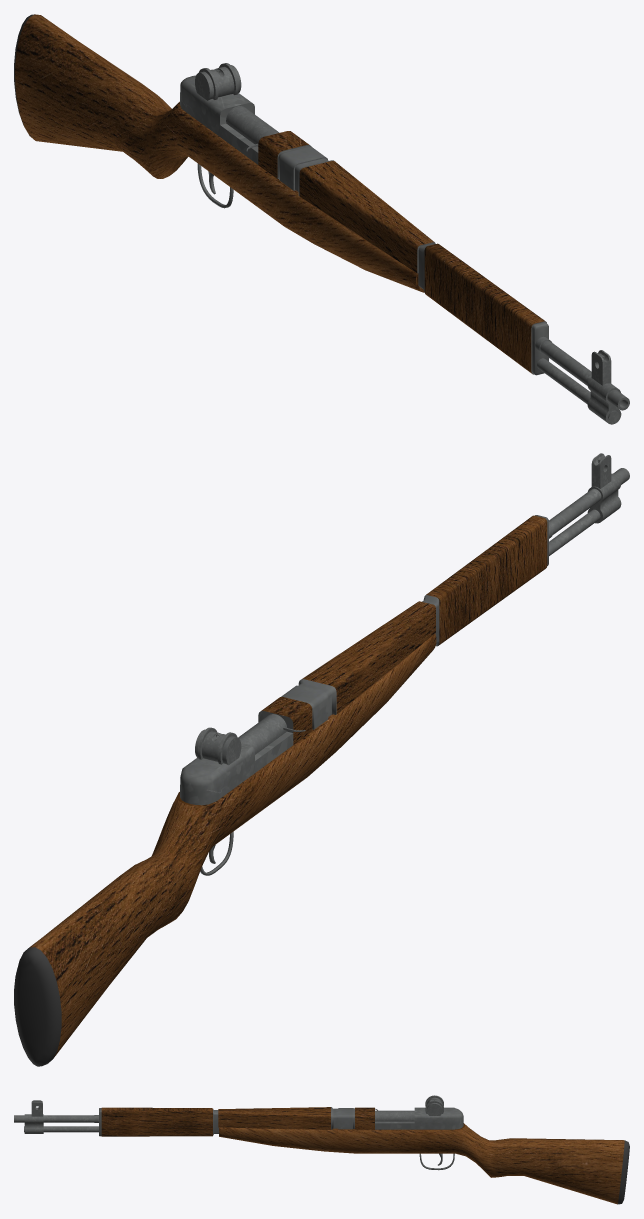
3 views of the same model, one above another, from view 1: azimuth 30°, elevation 25°; view 2: azimuth 150°, elevation 25°; view 3: azimuth 270°, elevation 25° (orthographic). The views are drawn at different scales.
Parts seen in each view (by area): view 1: Body_Wood, Body_Metal; view 2: Body_Wood, Body_Metal, Body_Rubber; view 3: Body_Wood, Body_Metal, Body_Rubber.
Boxes of the visible parts, box(x1,y1,x2,y2) form: Body_Wood: box(15, 14, 544, 373); Body_Metal: box(180, 63, 629, 424); Body_Wood: box(29, 515, 547, 1058); Body_Metal: box(180, 453, 629, 875); Body_Rubber: box(14, 947, 61, 1066); Body_Wood: box(101, 1107, 624, 1204); Body_Metal: box(14, 1095, 463, 1170); Body_Rubber: box(617, 1140, 629, 1204).
Bounding box in the file's own units: 0.0567 × 0.2096 × 1.11.
Materials: 3 (2 with a texture image).
